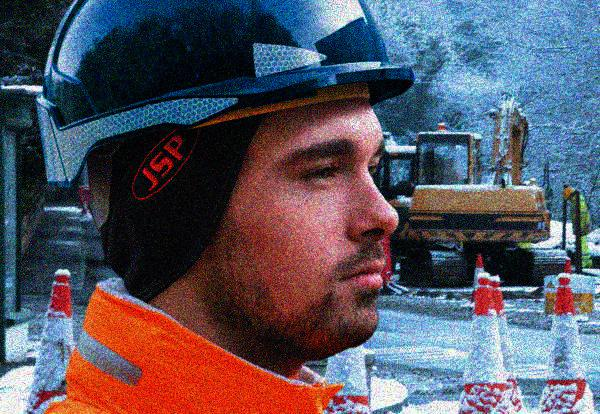helmet: (30, 1, 418, 347), (562, 186, 576, 202)
